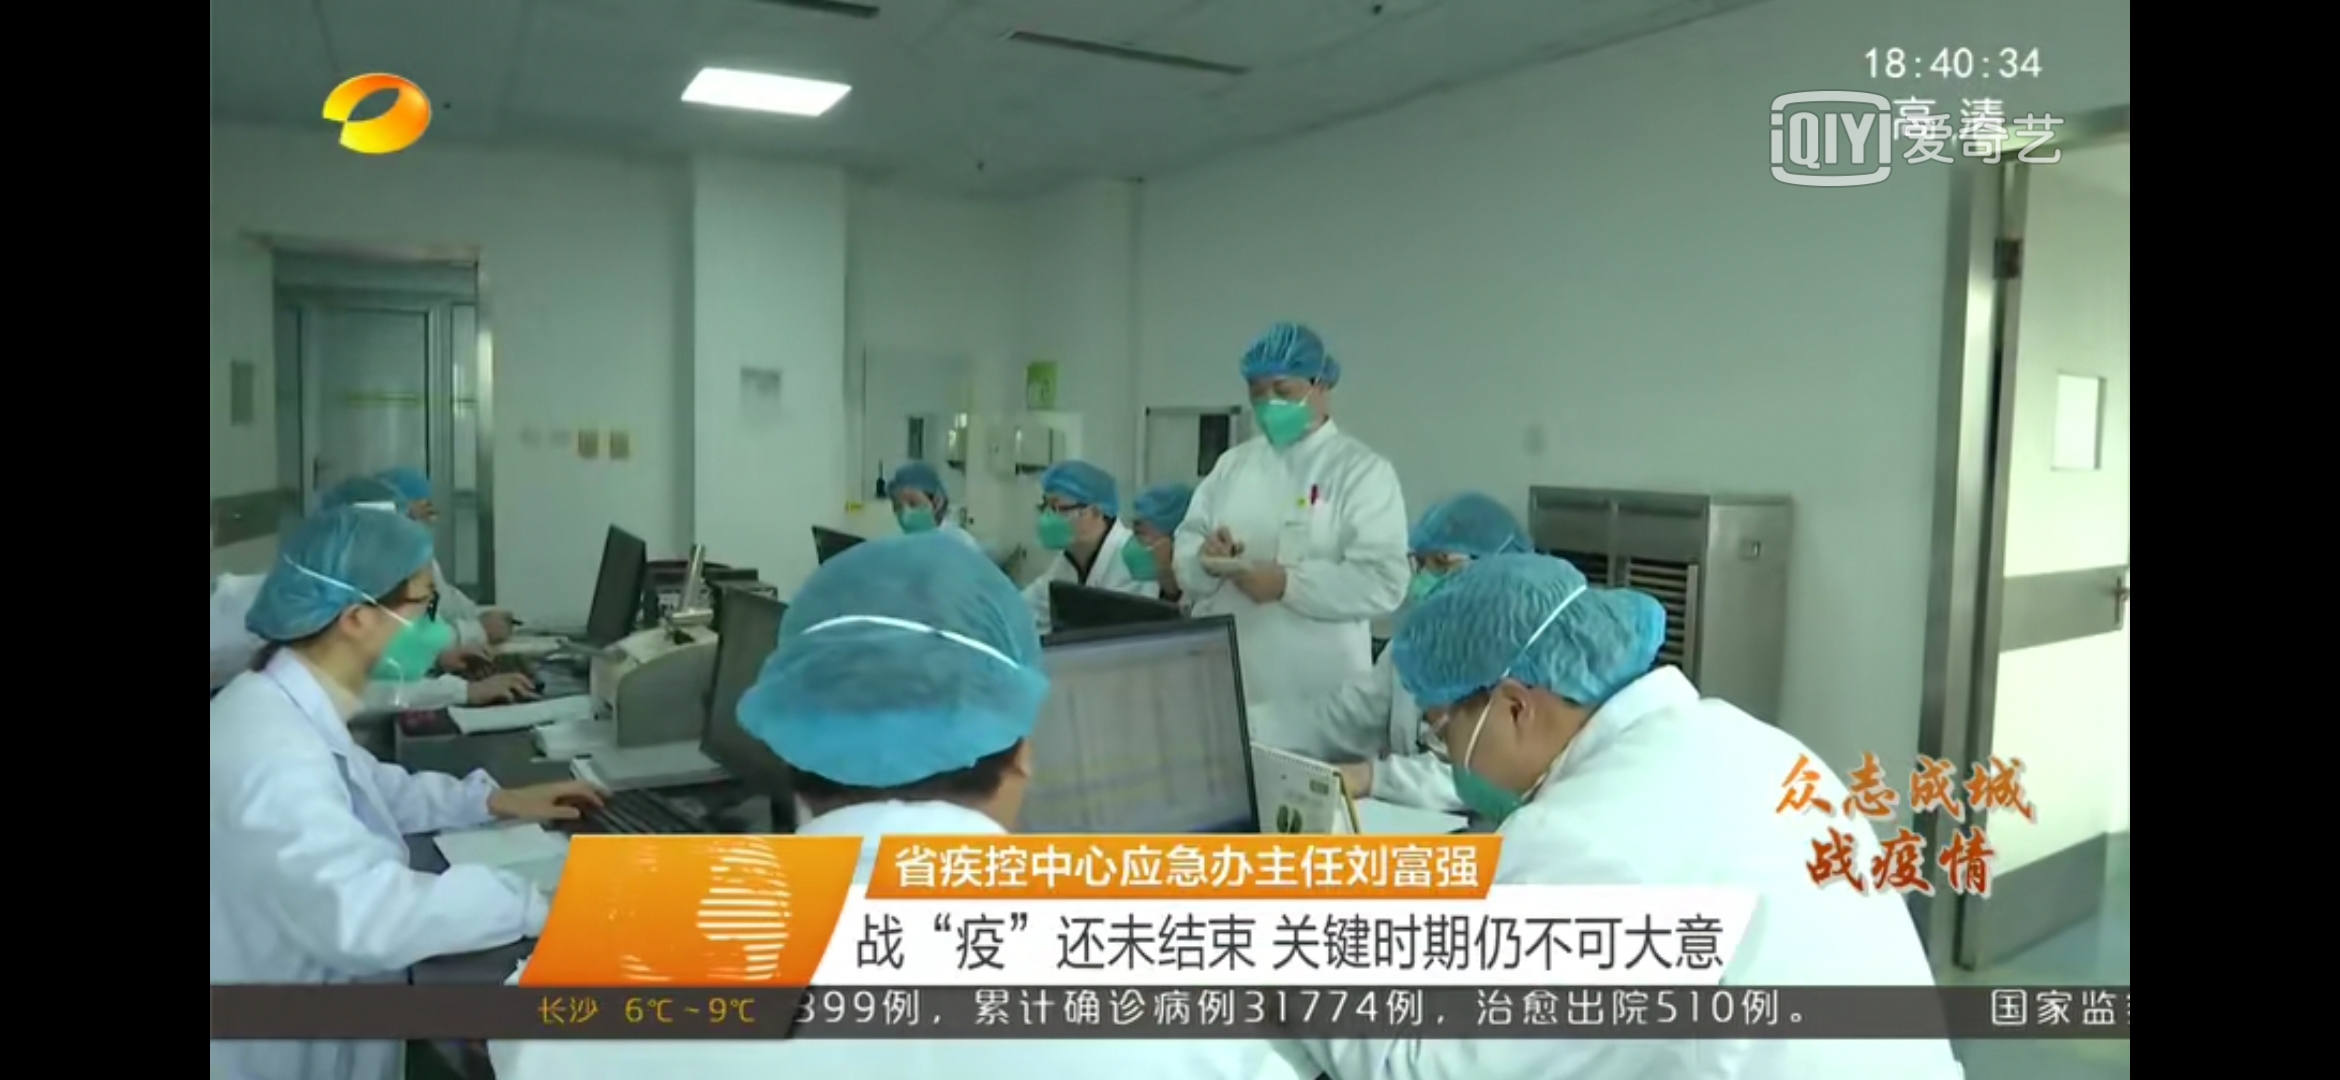correctlyWear: (1415, 653, 1542, 814), (333, 562, 454, 683), (1243, 358, 1327, 448), (1031, 485, 1101, 550), (1125, 509, 1177, 589), (886, 479, 945, 533)
